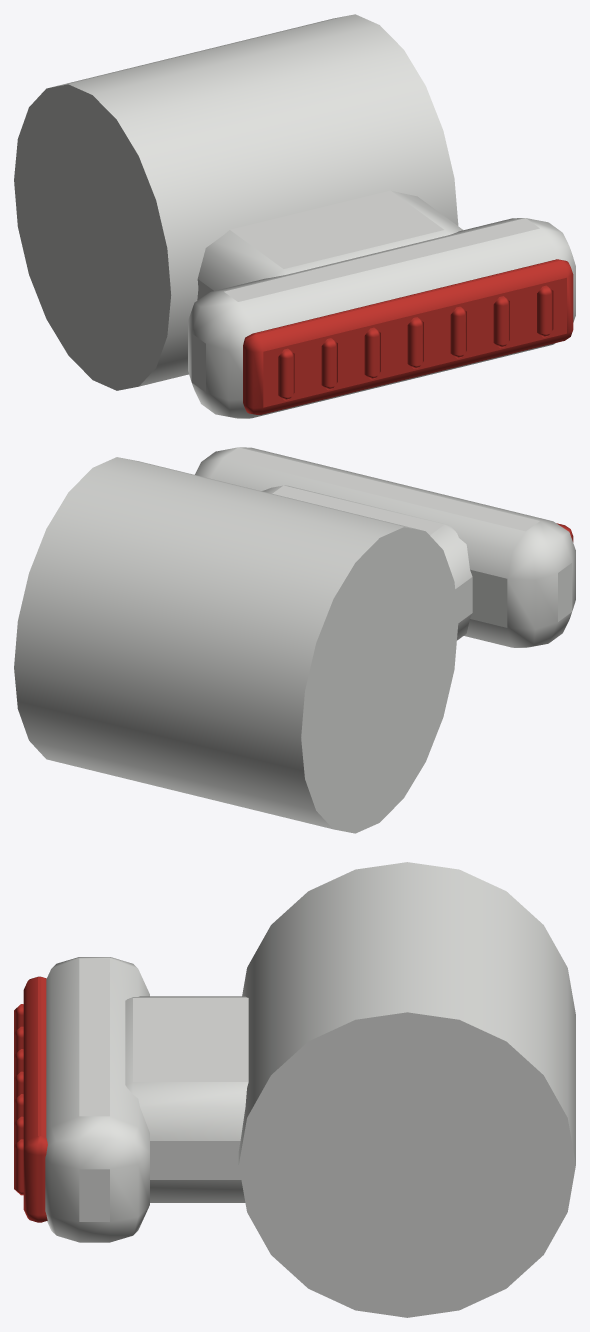
Rendered from isolator-toggle.glb.
3 views of the same model, one above another, from view 1: azimuth 30°, elevation 25°; view 2: azimuth 150°, elevation 25°; view 3: azimuth 270°, elevation 25° (orthographic). The views are drawn at different scales.
Visible parts, largest first — view 1: Satin ivory moulded polymer, Red isolator grip; view 2: Satin ivory moulded polymer; view 3: Satin ivory moulded polymer, Red isolator grip.
Part boxes in pixels (<box>): Satin ivory moulded polymer: <box>14,14,575,418</box>; Red isolator grip: <box>243,259,573,414</box>; Satin ivory moulded polymer: <box>14,447,575,833</box>; Satin ivory moulded polymer: <box>45,862,575,1317</box>; Red isolator grip: <box>14,976,47,1222</box>.
Size of the model in its own units: 0.0148 by 0.011 by 0.0183.
